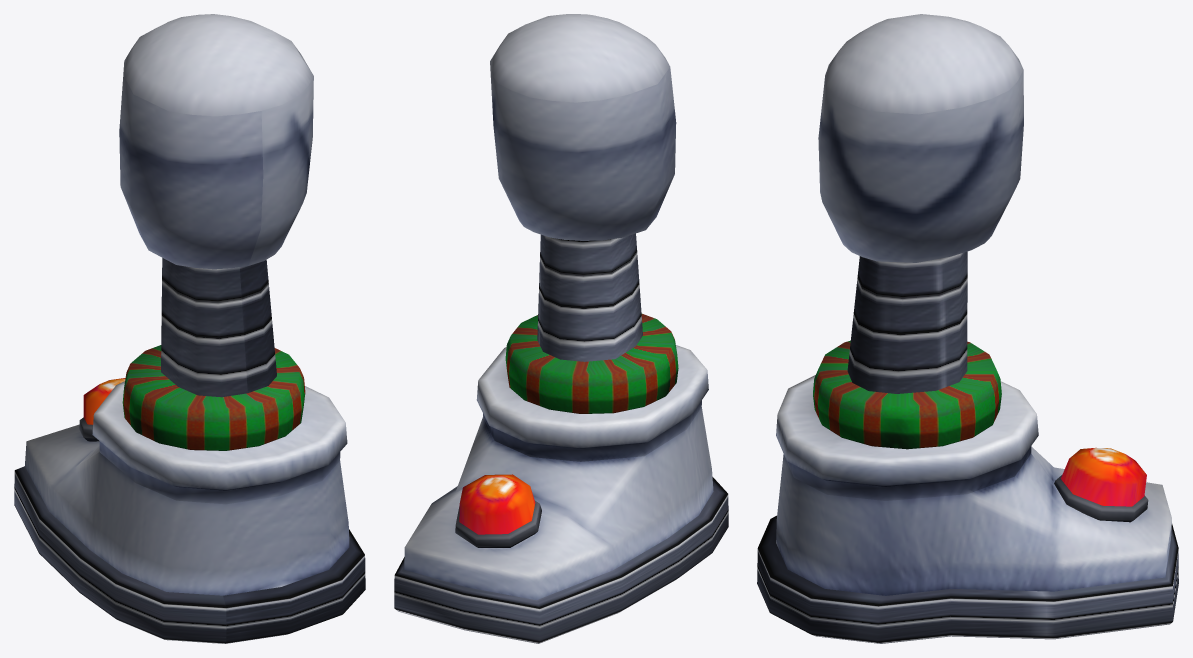
3 renders of one model, left to right at view 1: azimuth 30°, elevation 25°; view 2: azimuth 150°, elevation 25°; view 3: azimuth 270°, elevation 25°, orthographic. The views are drawn at different scales.
Visible parts, largest first — view 1: Mesh; view 2: Mesh; view 3: Mesh.
Part boxes in pixels (left/top/right/bottom): Mesh: left=14, top=14, right=365, bottom=643; Mesh: left=394, top=14, right=728, bottom=643; Mesh: left=757, top=14, right=1178, bottom=643.
Size of the model in its own units: 1.03 by 2.32 by 1.57.
